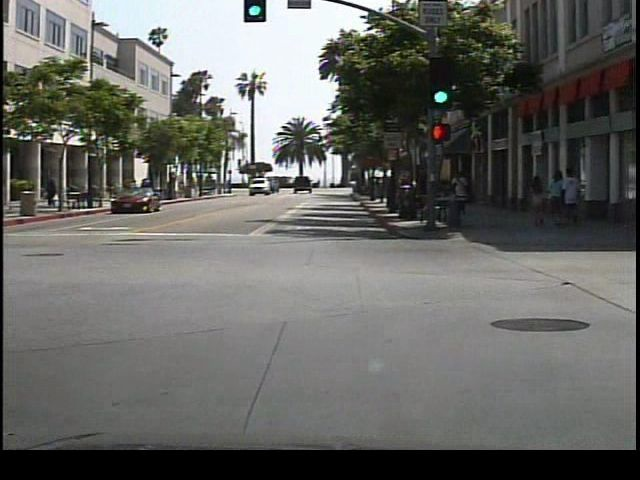person: (455, 165, 483, 219), (48, 173, 65, 211)
